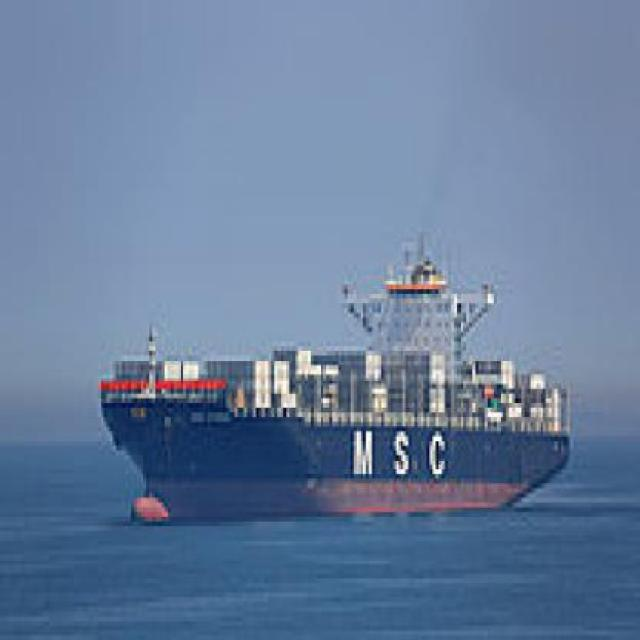container: (96, 214, 580, 537)
